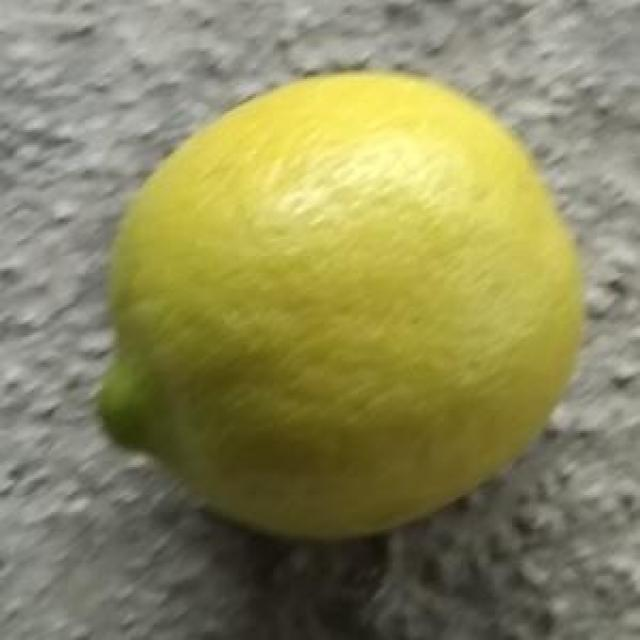lemon: (93, 64, 592, 544)
